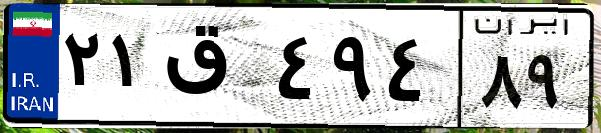1: (110, 28, 158, 98)
2: (57, 26, 110, 100)
4: (270, 28, 330, 110), (385, 28, 445, 110)
8: (475, 38, 525, 113)
9: (330, 28, 385, 110), (525, 38, 570, 115)
ق: (158, 20, 270, 120)
